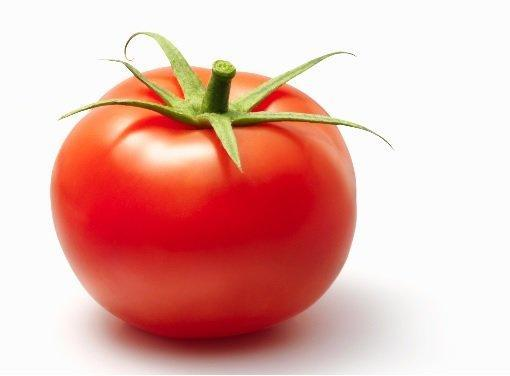healthy-tomato: (50, 34, 369, 343)
